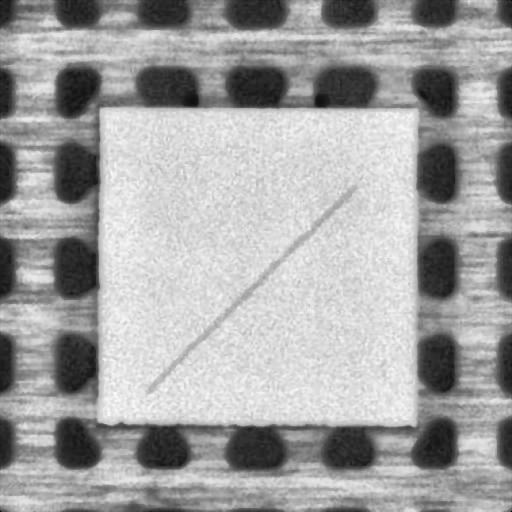DIE_CRACK: (146, 186, 354, 392)
